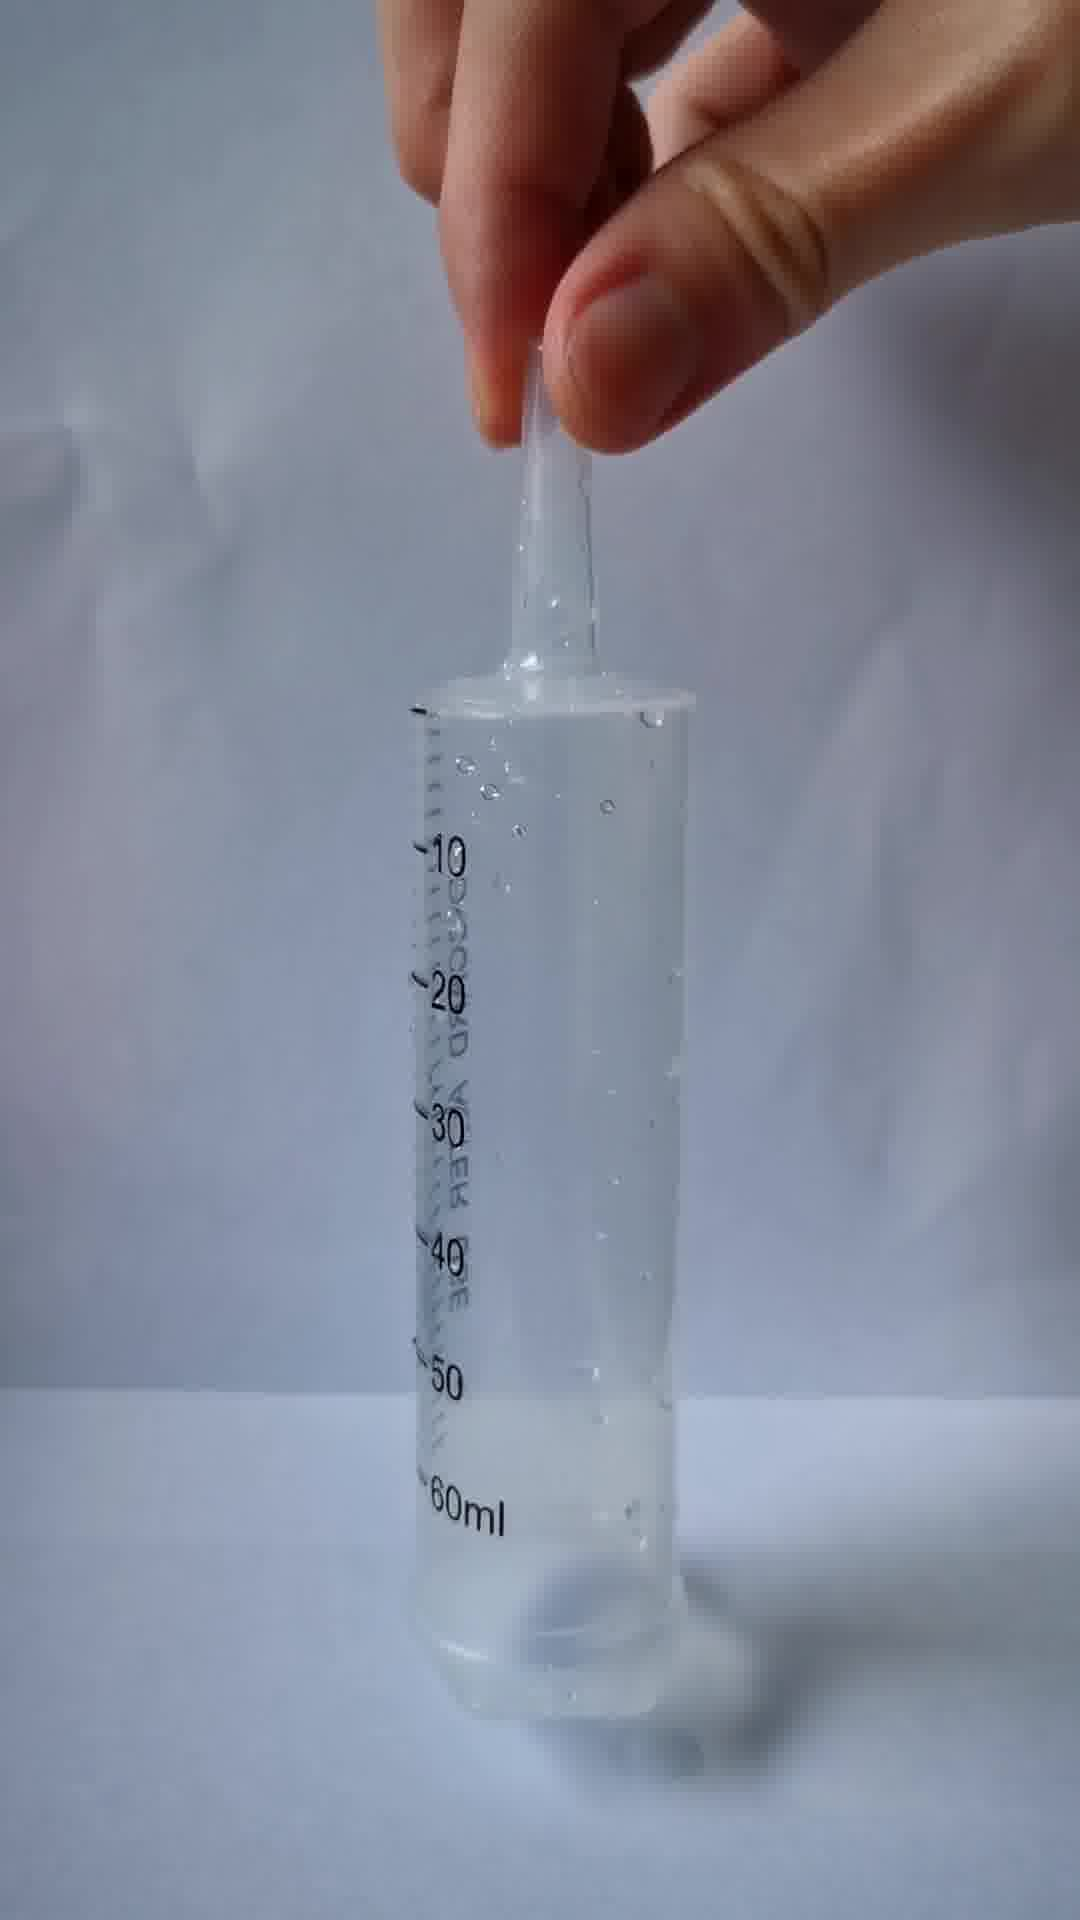syringe: (402, 349, 696, 1724)
